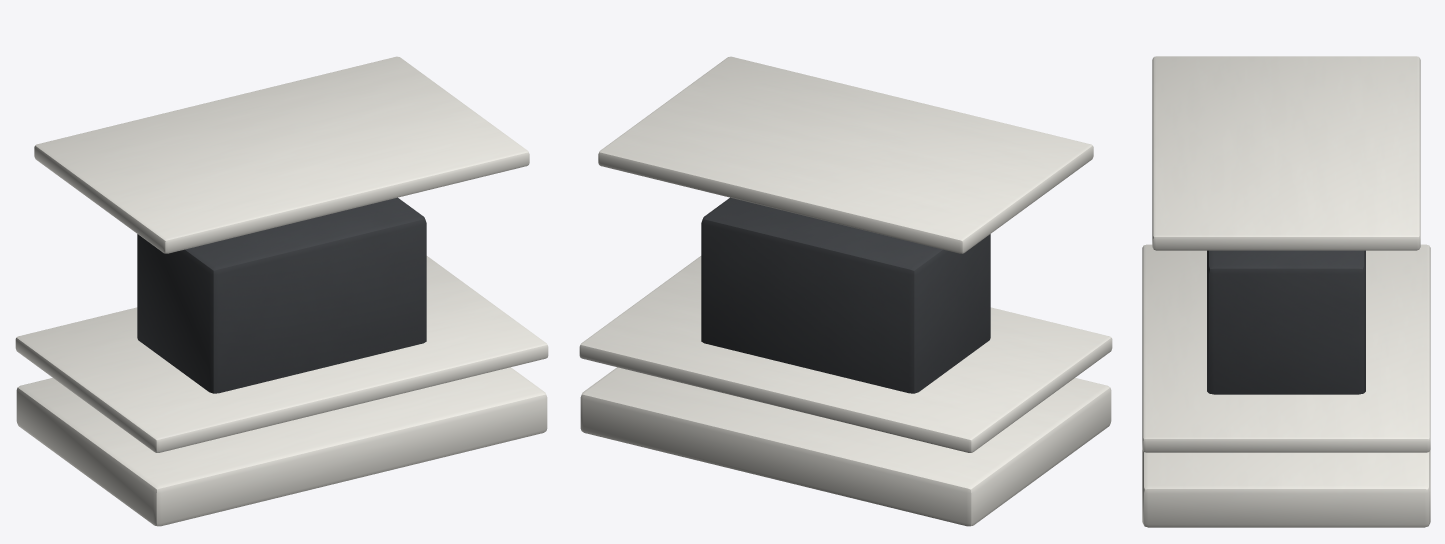
File: pf_display_luxury_display_island_t1.glb
3 views of the same model, side by side, from view 1: azimuth 30°, elevation 25°; view 2: azimuth 150°, elevation 25°; view 3: azimuth 270°, elevation 25° (orthographic).
Parts seen in each view (by area): view 1: Island_Deck_02, Island_Core, Island_Base, Island_Deck_01; view 2: Island_Deck_02, Island_Core, Island_Base, Island_Deck_01; view 3: Island_Deck_02, Island_Deck_01, Island_Core, Island_Base.
Boxes of the visible parts, box(x1,y1,x2,y2) form: Island_Deck_02: box(34, 56, 529, 253); Island_Core: box(137, 197, 426, 393); Island_Base: box(16, 367, 547, 526); Island_Deck_01: box(15, 256, 548, 452); Island_Deck_02: box(598, 56, 1093, 253); Island_Core: box(701, 197, 990, 393); Island_Base: box(580, 367, 1111, 526); Island_Deck_01: box(579, 256, 1112, 452); Island_Deck_02: box(1152, 56, 1420, 250); Island_Deck_01: box(1142, 244, 1430, 452); Island_Core: box(1207, 250, 1365, 394); Island_Base: box(1142, 450, 1430, 527).
Bounding box in the file's own units: 1.2 × 0.92 × 0.75.
3 materials, 2 textured.
